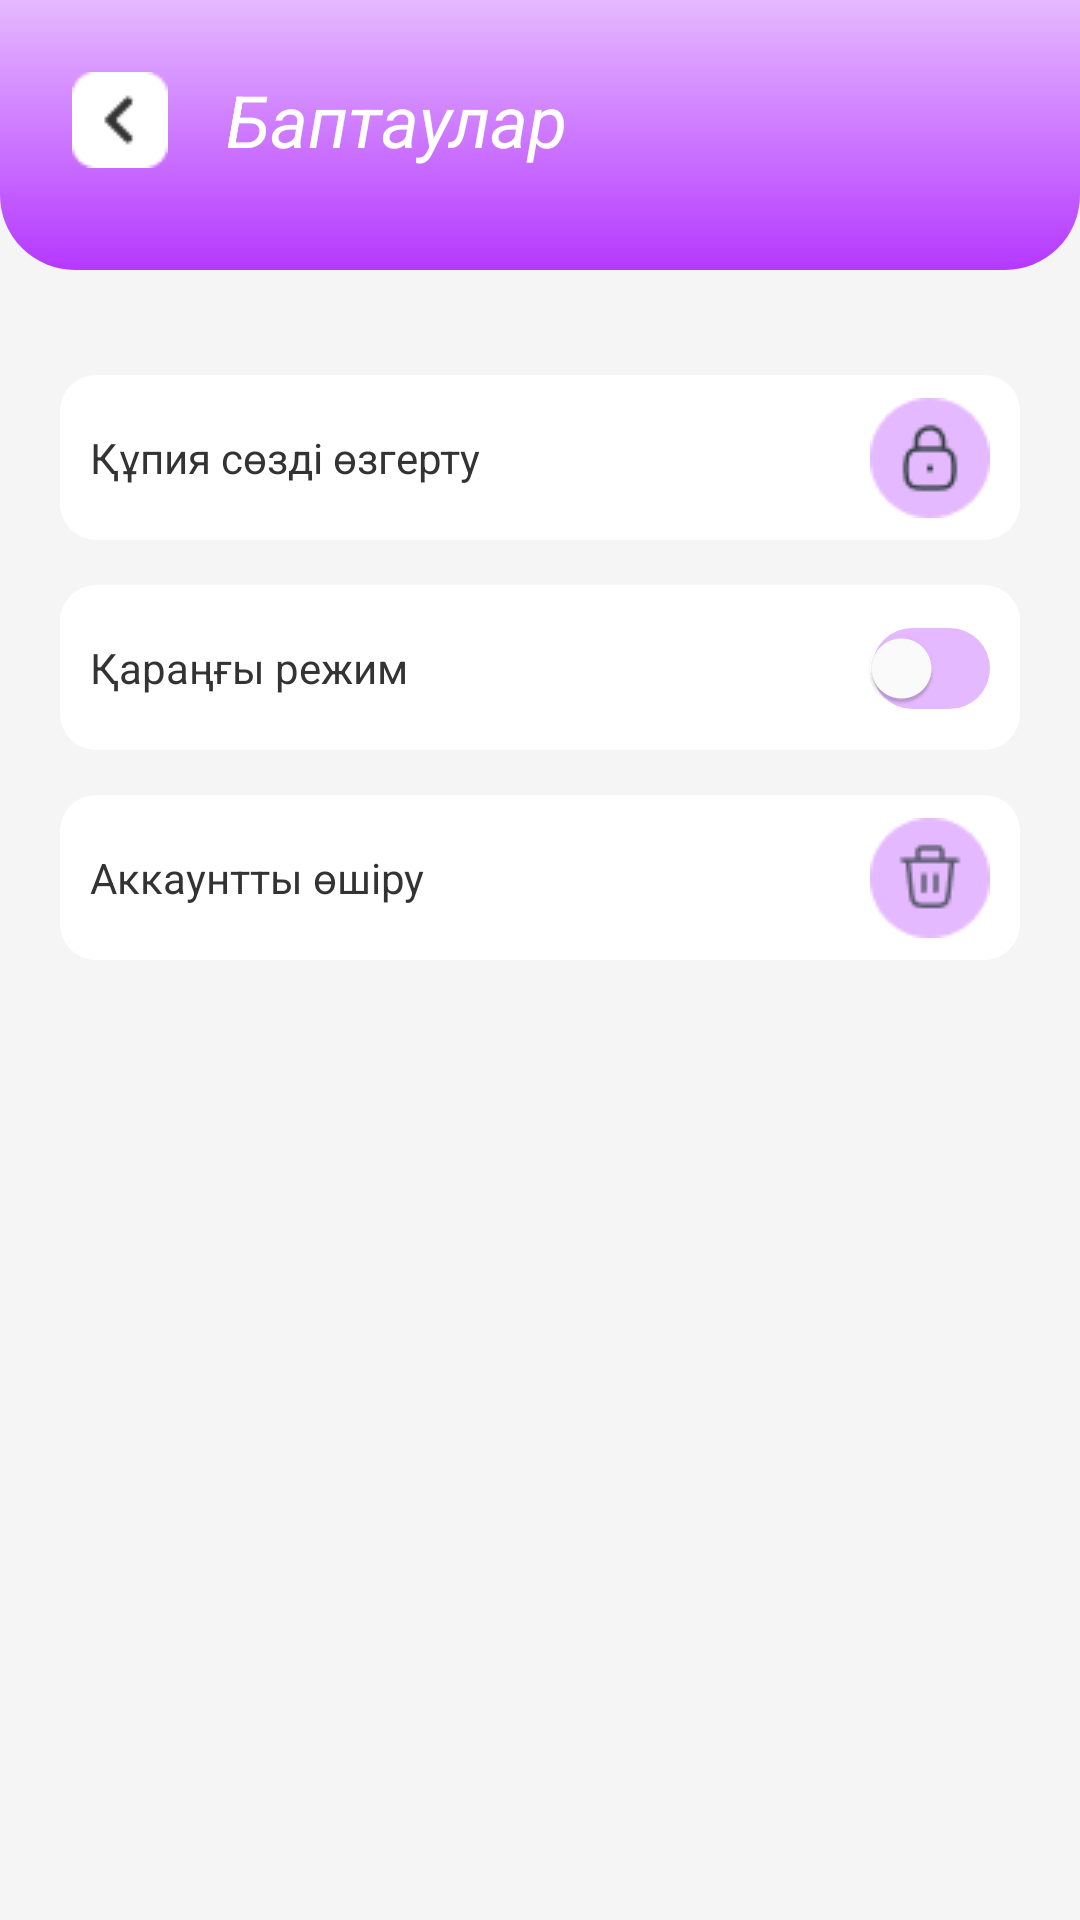

Icons on this 1080 x 1920 Android screen, each with the point to tap as (x=x, y=y):
back: (x=120, y=120)
setting delete profile: (x=930, y=878)
settings change password: (x=930, y=458)
